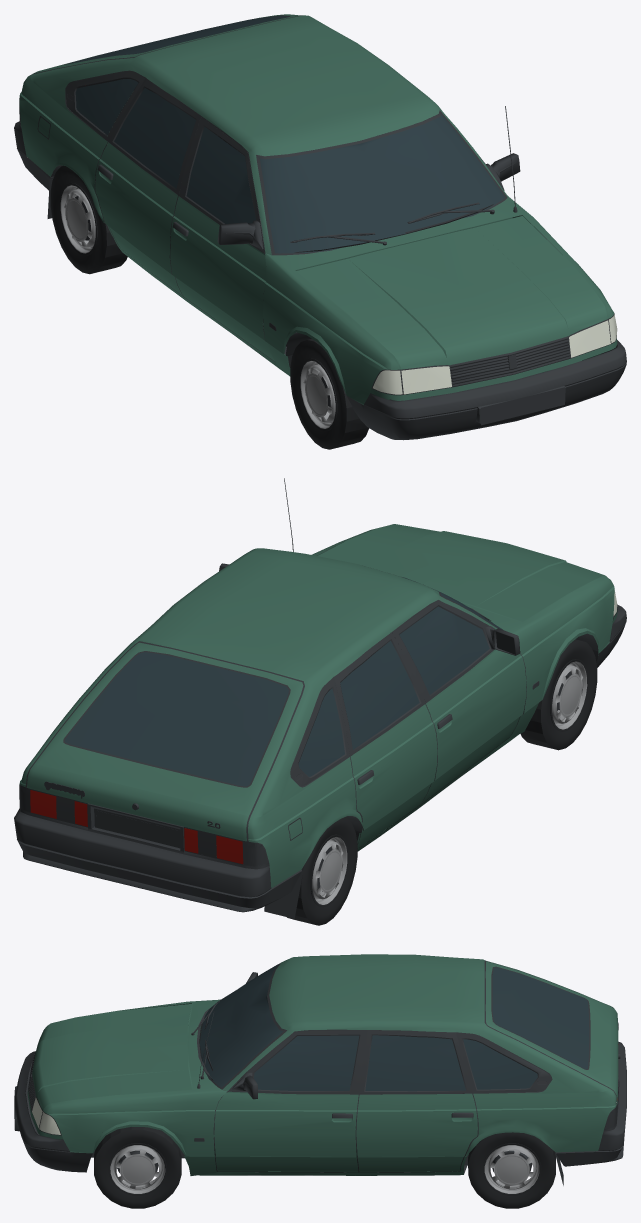
Rendered from azlk2141.glb.
The picture shows the model from 3 angles, top to bottom: view 1: azimuth 30°, elevation 25°; view 2: azimuth 150°, elevation 25°; view 3: azimuth 270°, elevation 25°; orthographic projection. The views are drawn at different scales.
Parts seen in each view (by area): view 1: chassisbody, glass, chassis_trim, wheel_fr, wheel_rr, headlights; view 2: chassisbody, glass, chassis_trim, wheel_fr, wheel_rr, taillights; view 3: chassisbody, glass, chassis_trim, wheel_fl, wheel_rl, headlights.
Part boxes in pixels (left/top/right/bottom): chassisbody: left=19, top=14, right=617, bottom=404; glass: left=66, top=15, right=504, bottom=253; chassis_trim: left=14, top=15, right=626, bottom=440; wheel_fr: left=290, top=339, right=368, bottom=449; wheel_rr: left=50, top=165, right=127, bottom=274; headlights: left=373, top=315, right=617, bottom=394; chassisbody: left=19, top=524, right=617, bottom=888; glass: left=65, top=577, right=502, bottom=786; chassis_trim: left=14, top=478, right=626, bottom=918; wheel_fr: left=520, top=639, right=597, bottom=750; wheel_rr: left=287, top=817, right=357, bottom=925; taillights: left=30, top=790, right=243, bottom=864; chassisbody: left=27, top=954, right=618, bottom=1175; glass: left=199, top=964, right=589, bottom=1091; chassis_trim: left=14, top=960, right=626, bottom=1185; wheel_fl: left=94, top=1127, right=181, bottom=1208; wheel_rl: left=468, top=1132, right=555, bottom=1208; headlights: left=32, top=1097, right=60, bottom=1134.
Size of the model in its own units: 2.16 by 1.68 by 4.88.
